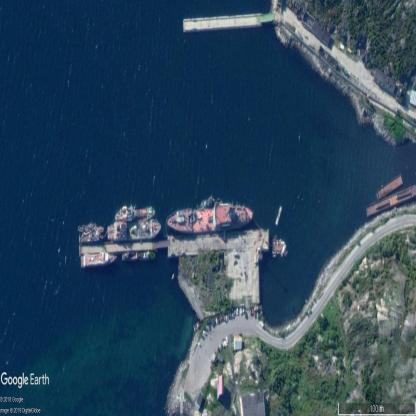ship: (167, 203, 253, 232), (107, 220, 161, 242), (115, 206, 156, 221), (378, 176, 403, 200), (80, 255, 117, 266), (123, 251, 155, 261), (80, 225, 102, 234), (79, 234, 100, 242)
